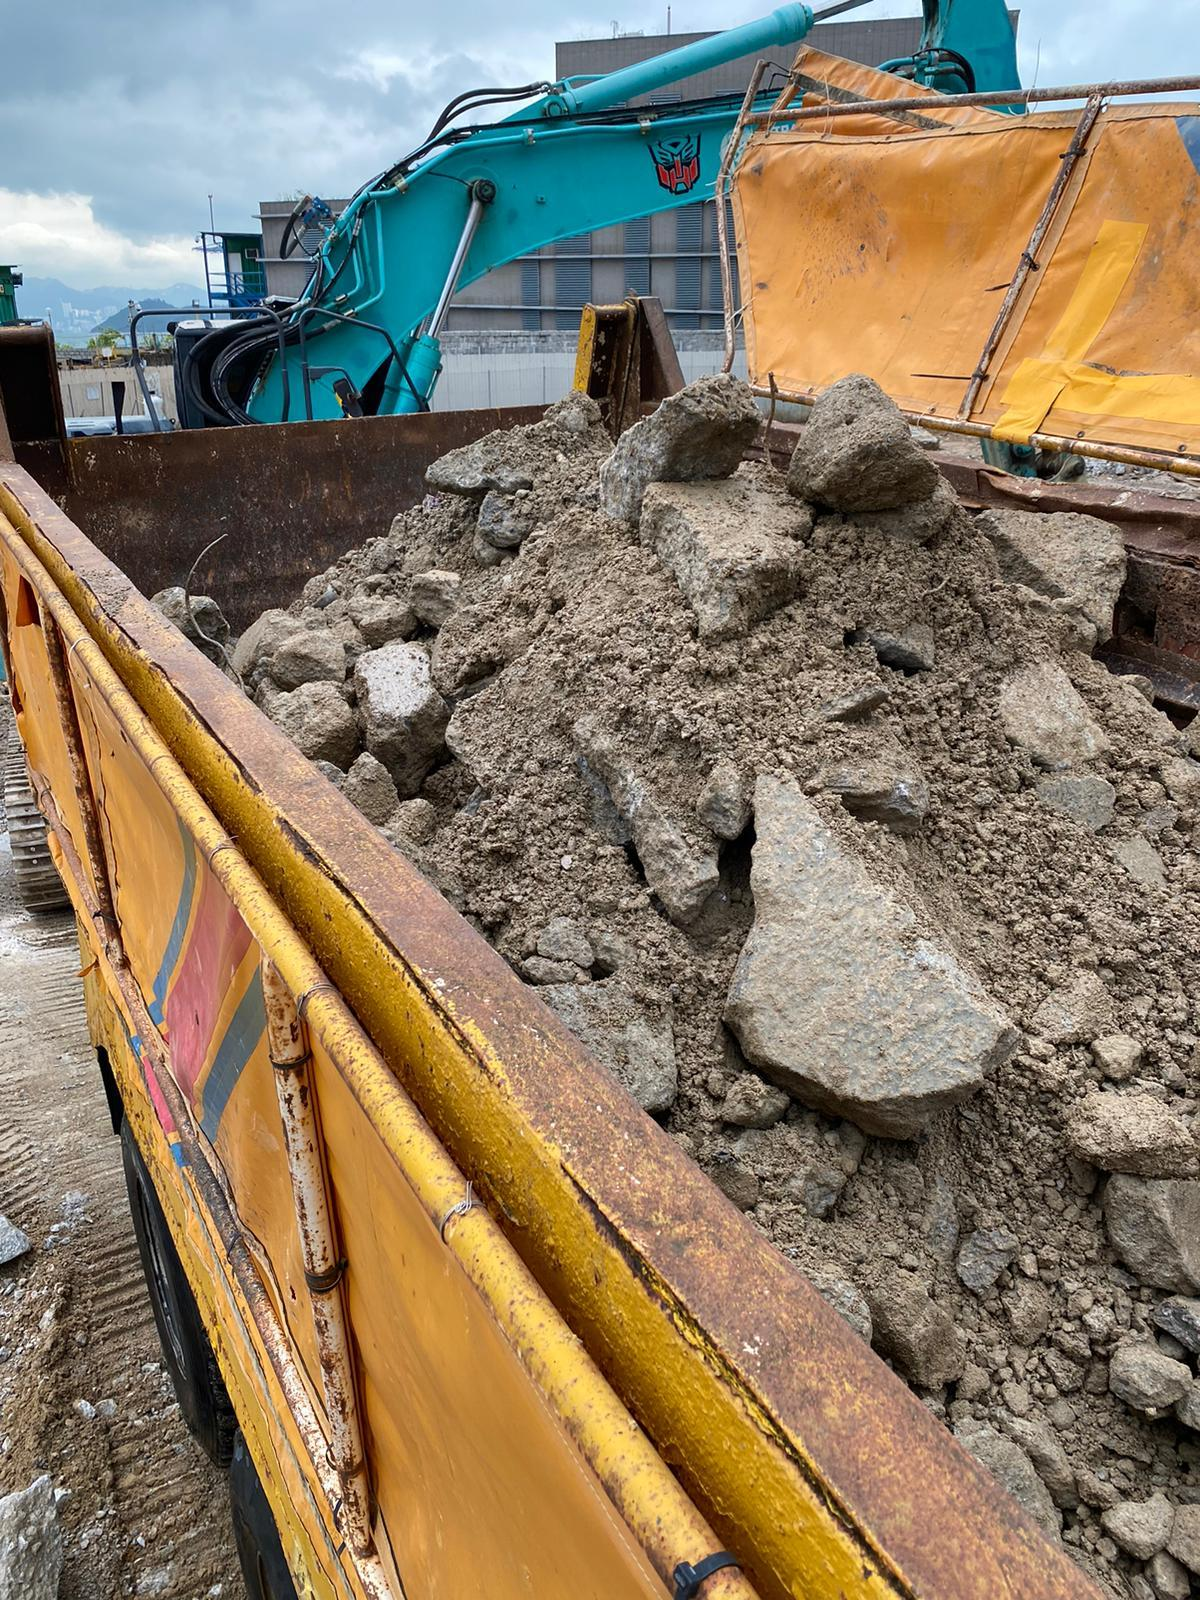dry: (258, 378, 1192, 1595)
